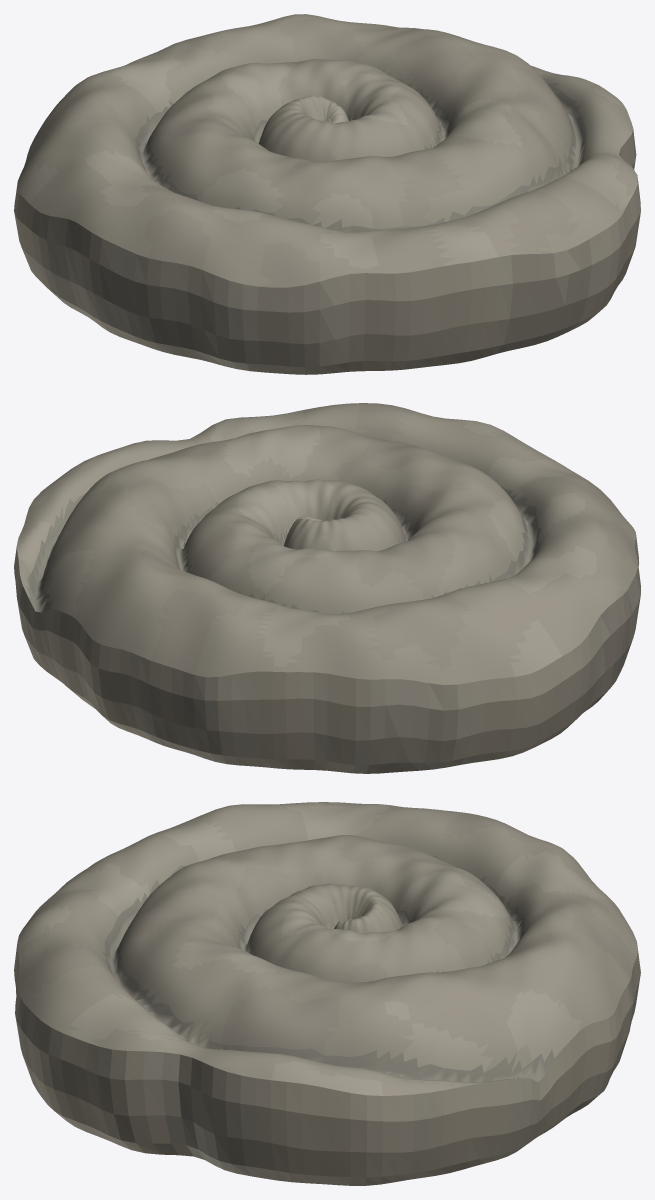
The picture shows the model from 3 angles, top to bottom: view 1: azimuth 30°, elevation 25°; view 2: azimuth 150°, elevation 25°; view 3: azimuth 270°, elevation 25°; orthographic projection. The views are drawn at different scales.
Parts seen in each view (by area): view 1: weathered_spiral_shell; view 2: weathered_spiral_shell; view 3: weathered_spiral_shell.
Boxes of the visible parts, x1=… form: weathered_spiral_shell: x1=14, y1=14, x2=640, y2=374; weathered_spiral_shell: x1=14, y1=403, x2=640, y2=773; weathered_spiral_shell: x1=14, y1=802, x2=640, y2=1185.
Size of the model in its own units: 0.11 by 0.03 by 0.1045.
